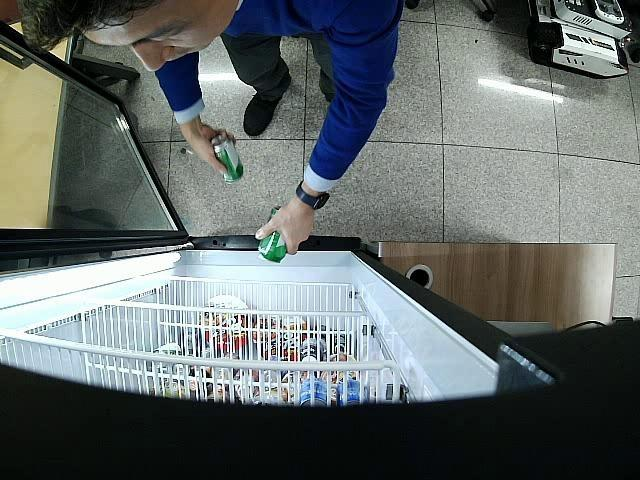12_chilsungCider: (258, 206, 287, 264), (211, 134, 243, 183)
